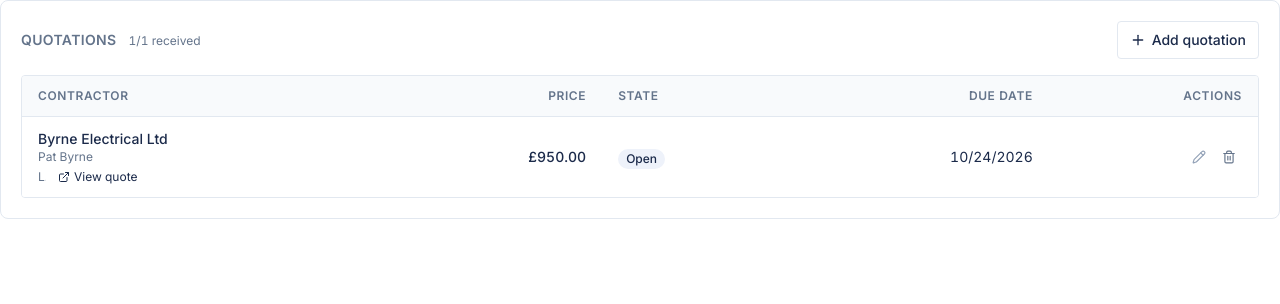
it: WorkOrderQuotationsPanel — expanded-row edit › pre-fills the three fields from the row on expand
The image size is (1280, 304).
Click the button named "edit quotation from byrne" at (1199, 157), box x1=1186 y1=144 x2=1212 y2=170
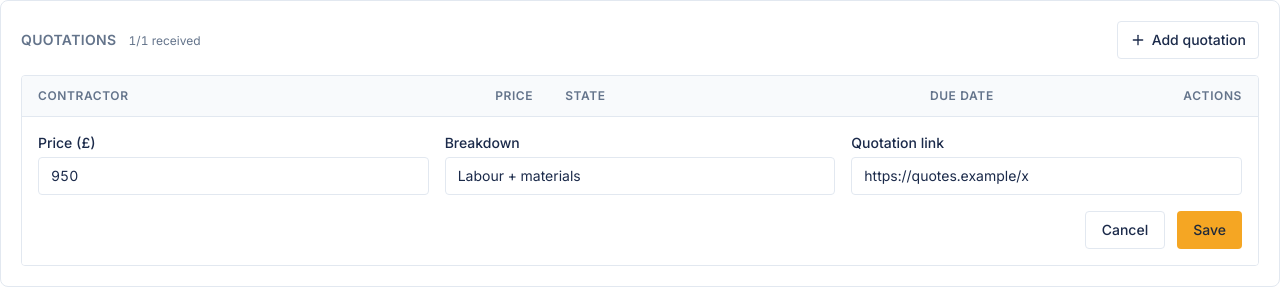
Result: the field labelled "Breakdown" holds "Labour + materials" at x1=445 y1=157 x2=835 y2=195
Result: the field labelled "Quotation link" holds "https://quotes.example/x" at x1=851 y1=157 x2=1242 y2=195
